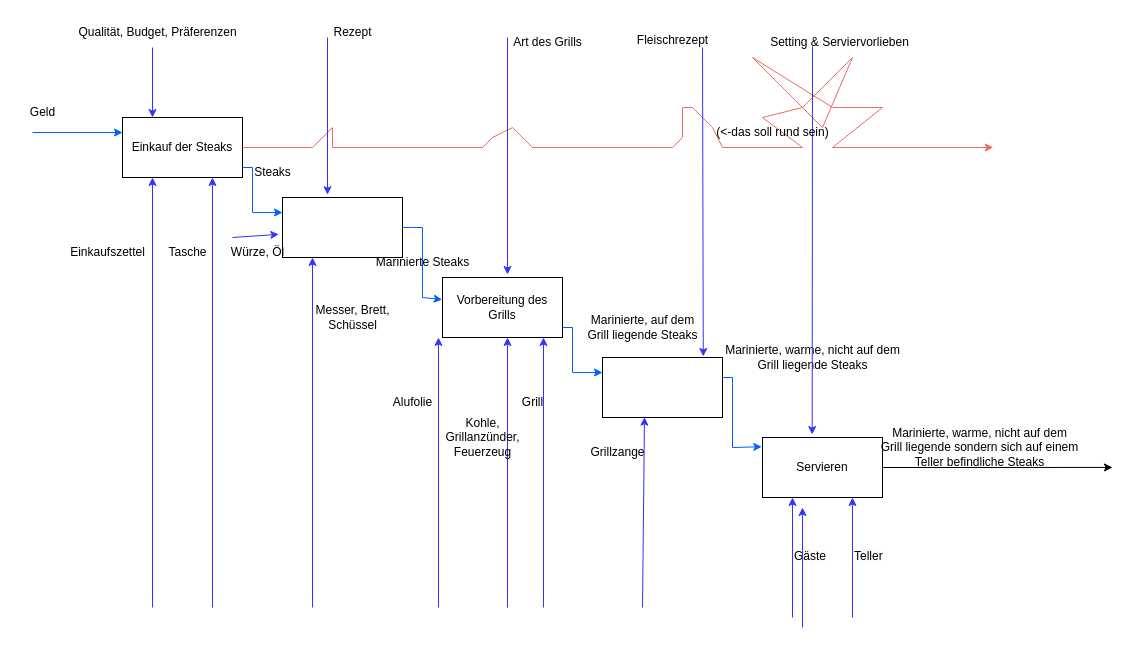
Some shapes in this 1138 by 653 pixel diagram are drawn without their labels. Each missing label, with the box of its shape:
Grillen: (602, 356, 722, 418)
Zubereitung des Steaks: (282, 196, 402, 258)
